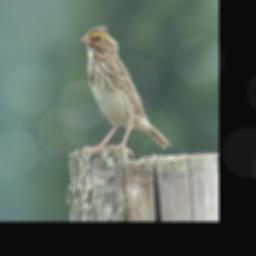Sparrow: (78, 25, 172, 162)
